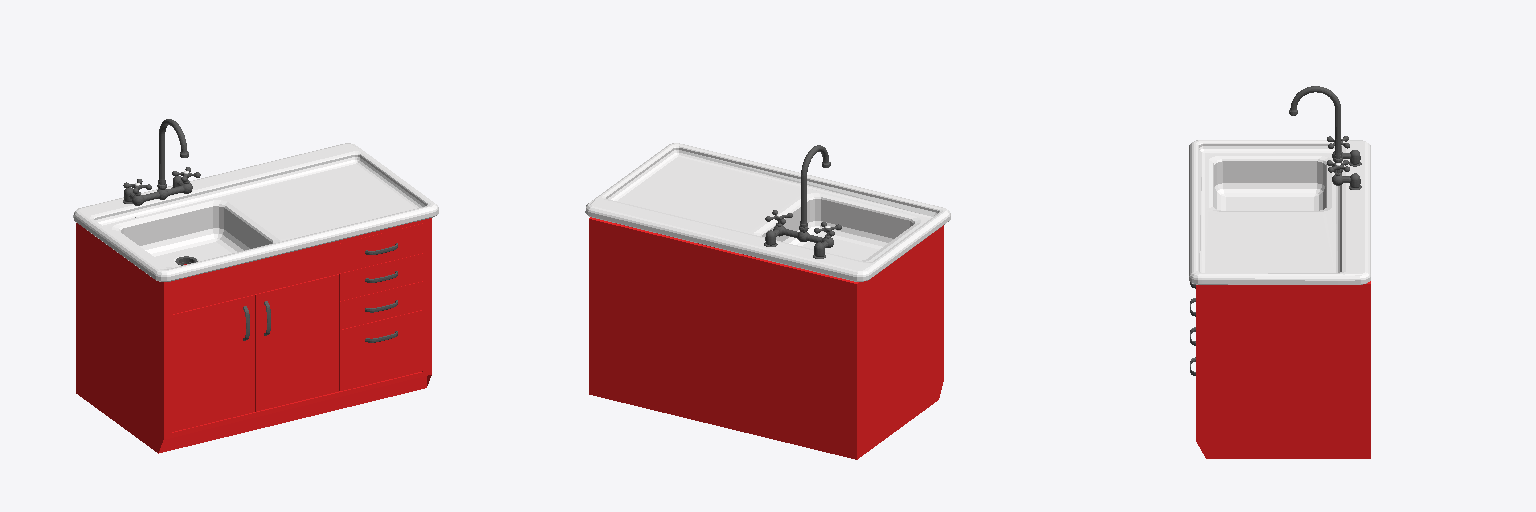
File: sink-oldstyle.obj
The picture shows the model from 3 angles: view 1: azimuth 30°, elevation 25°; view 2: azimuth 150°, elevation 25°; view 3: azimuth 270°, elevation 25°; orthographic projection.
Visible parts, largest first — view 1: mesh06, mesh08, mesh33, mesh34, mesh35, mesh38, mesh36, mesh37, mesh04; view 2: mesh06, mesh08, mesh04; view 3: mesh06, mesh08, mesh04.
Boxes of the visible parts, <box> form: mesh06: <box>76,218,431,453</box>; mesh08: <box>73,143,438,281</box>; mesh33: <box>255,274,338,411</box>; mesh34: <box>172,295,254,431</box>; mesh35: <box>339,310,422,390</box>; mesh38: <box>340,223,422,272</box>; mesh36: <box>339,281,422,329</box>; mesh37: <box>339,253,422,300</box>; mesh04: <box>158,119,188,184</box>; mesh06: <box>589,217,943,459</box>; mesh08: <box>585,143,950,281</box>; mesh04: <box>800,145,830,226</box>; mesh06: <box>1196,281,1370,458</box>; mesh08: <box>1189,140,1370,284</box>; mesh04: <box>1289,86,1341,158</box>.
Size of the model in its own units: 16.89 by 15.7 by 9.39.